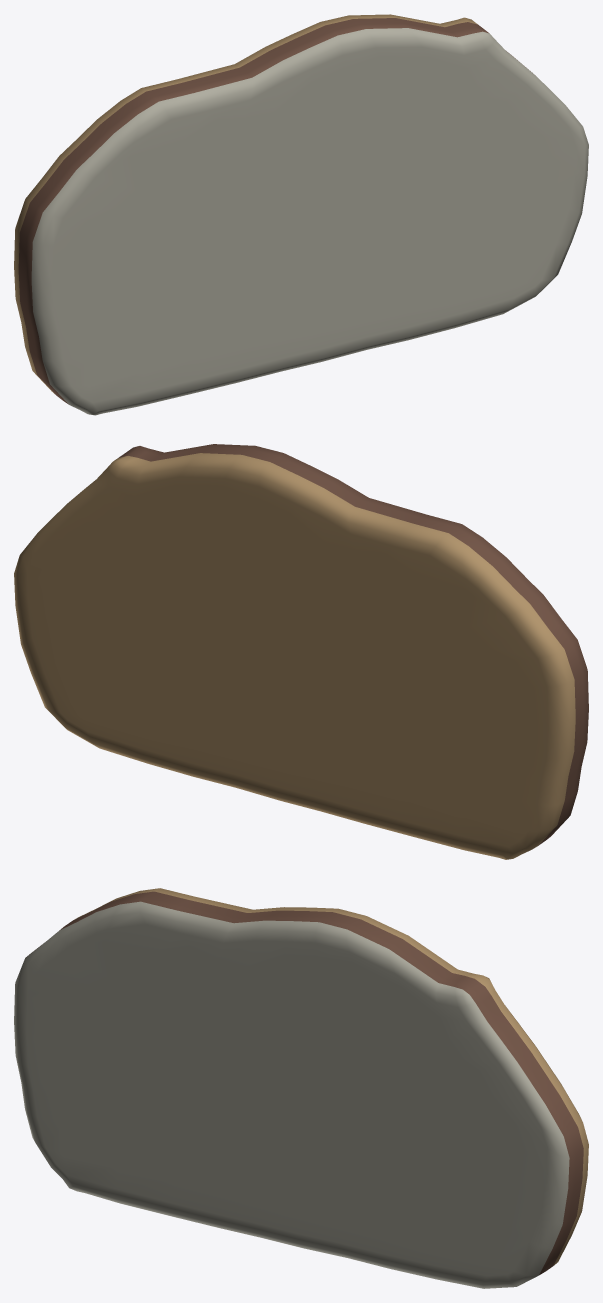
The model's file is Stein.fbx.
The picture shows the model from 3 angles, top to bottom: view 1: azimuth 30°, elevation 25°; view 2: azimuth 150°, elevation 25°; view 3: azimuth 330°, elevation 25°; orthographic projection. The views are drawn at different scales.
Visible parts, largest first — view 1: Stein.02; view 2: Stein.02; view 3: Stein.02.
Part boxes in pixels (bbox=[...]): Stein.02: bbox=[14, 14, 588, 415]; Stein.02: bbox=[14, 444, 588, 859]; Stein.02: bbox=[14, 888, 588, 1288].
Bounding box in the file's own units: 33.73 × 19.05 × 3.51.
